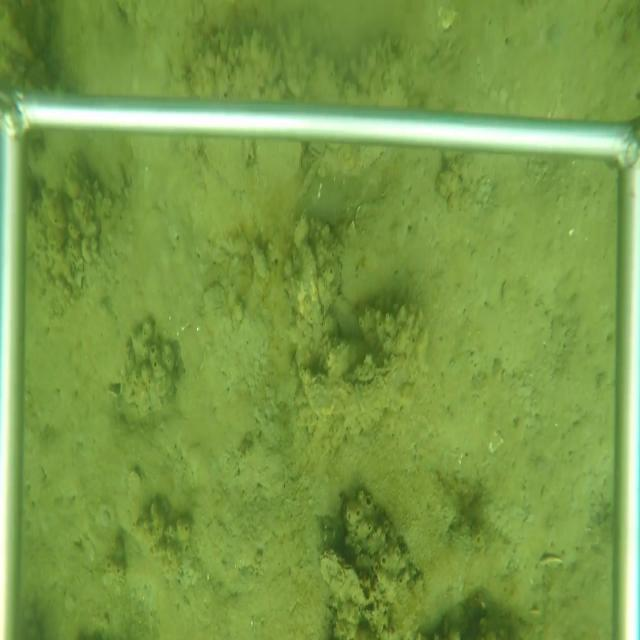Oyster-Closed: (294, 356, 413, 428), (317, 547, 372, 612)
Oyster-Indeterminate: (289, 239, 325, 328)
